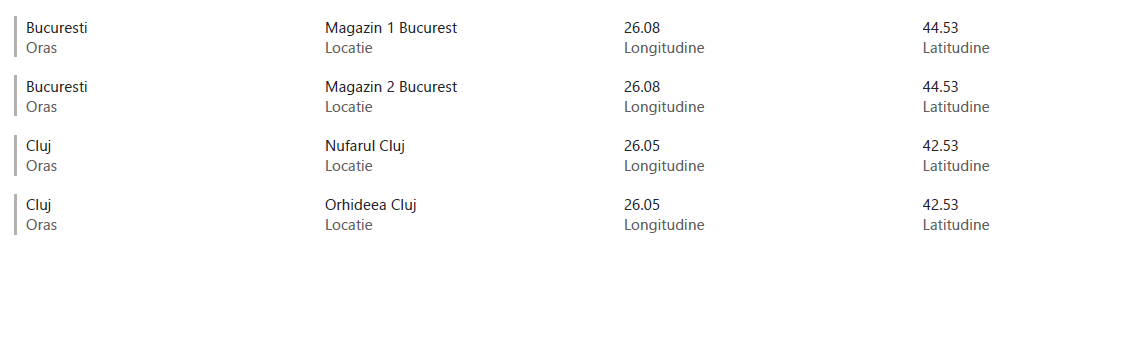

Layout of this report page (visuals, bound fields, positions):
{"tool":"powerbi","page":{"name":"Page 1","canvas":[1280,720],"ordinal":0},"visuals":[{"type":"tableEx","fields":{"Values":["Query3.NAME"]},"box":[5.1,0,1274.9,719.6],"z":0}]}

Visuals, with their boxes on the page's 1280x720 design canvas (x1, y1, x2, y2). These are canvas units, not pixel positions in the 1124x340 screenshot, which may show the page scaled, cropped or inside an application window:
tableEx - Query3.NAME: bbox=[5, 0, 1280, 720]
